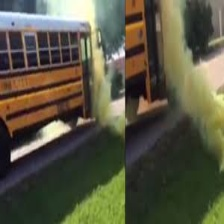smoke: (171, 7, 223, 140), (87, 17, 122, 129)
